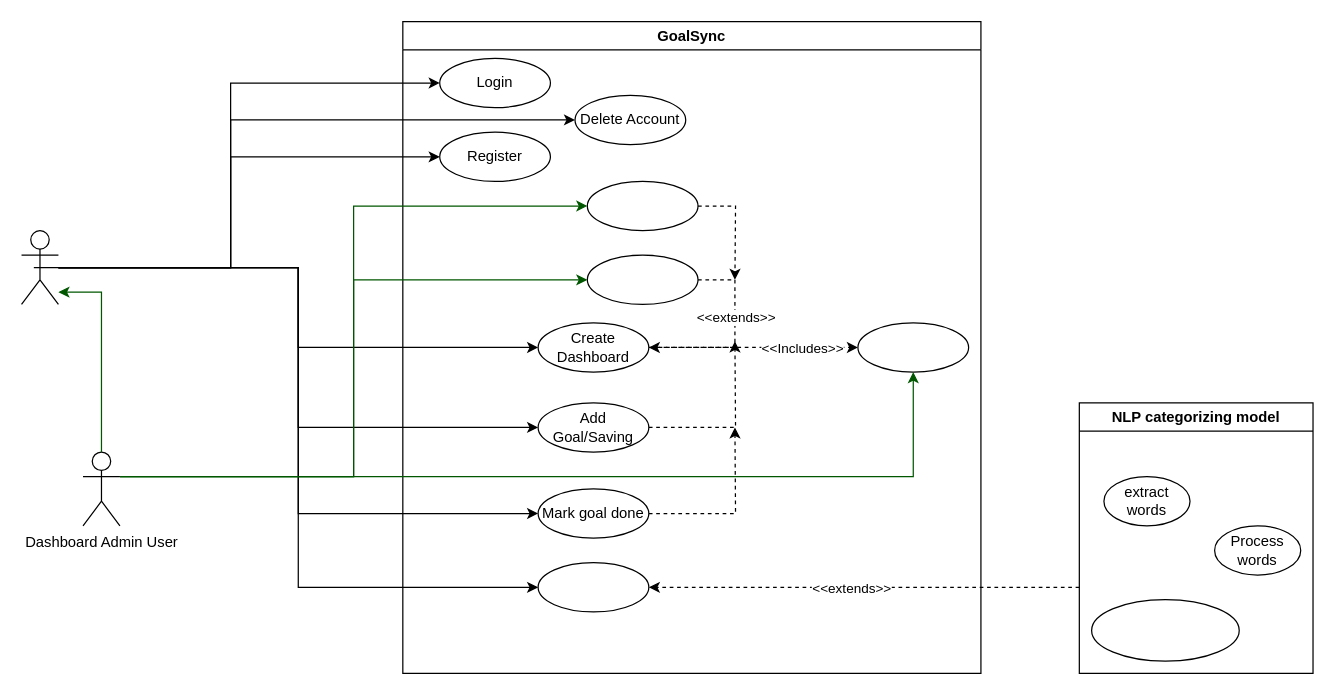
Image size: 1335x695. Some labels were removed from this diagram. Each missing label, with the centre of its shape:
"Add Member" belongs at (x=642, y=205).
"Categorize expense/goal" belongs at (x=1164, y=629).
"Categorize expenses" belongs at (x=593, y=586).
"Delete Dashboard" belongs at (x=913, y=347).
"Remove Member" belongs at (x=642, y=279).
"User" belongs at (x=39, y=266).
